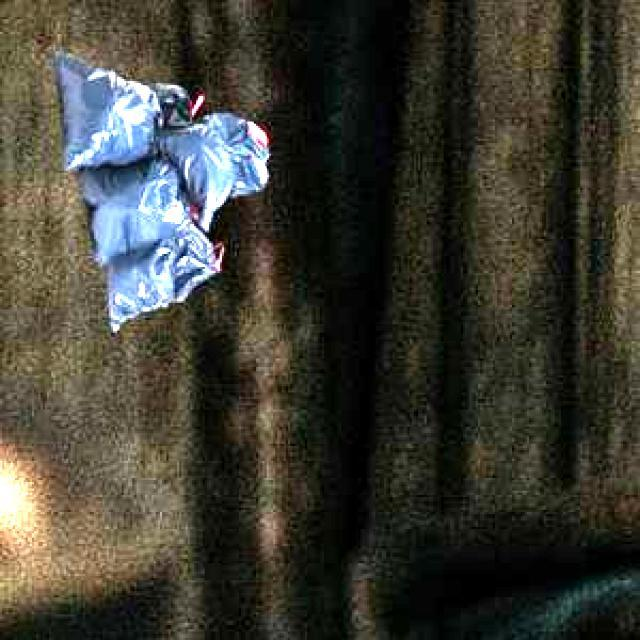Garbage_Bag: (50, 46, 266, 327)
